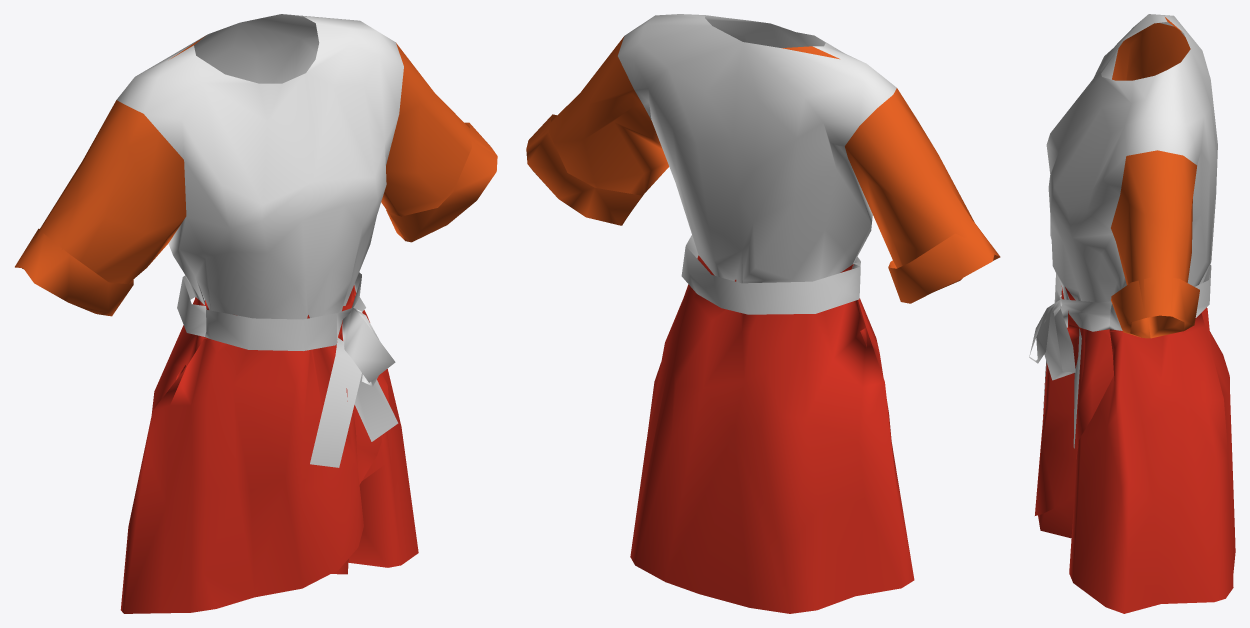
The model's file is TempDress_3mats.fbx.
3 renders of one model, left to right at view 1: azimuth 30°, elevation 25°; view 2: azimuth 150°, elevation 25°; view 3: azimuth 270°, elevation 25°, orthographic. The views are drawn at different scales.
Visible parts, largest first — view 1: Short tie Khaki dress; view 2: Short tie Khaki dress; view 3: Short tie Khaki dress.
Part boxes in pixels (bbox=[...]): Short tie Khaki dress: bbox=[15, 14, 497, 613]; Short tie Khaki dress: bbox=[526, 14, 1000, 613]; Short tie Khaki dress: bbox=[1029, 14, 1235, 613].
Bounding box in the file's own units: 7317 × 8169 × 2934.
